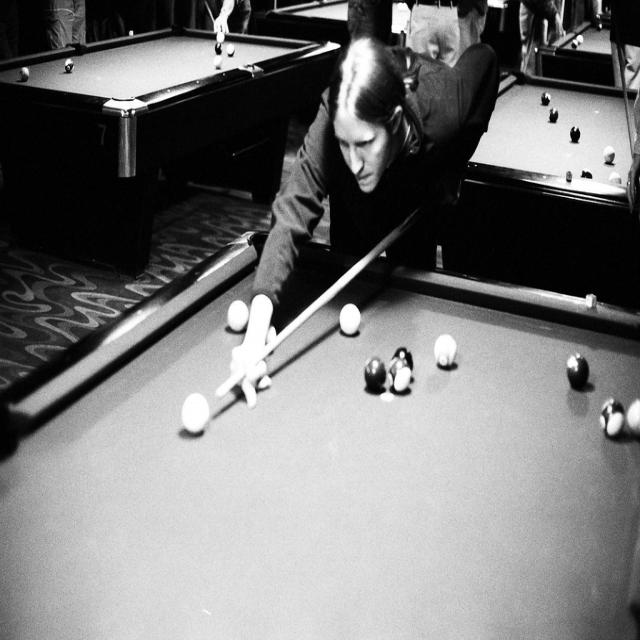Billiard table: (0, 227, 639, 639), (0, 27, 340, 276), (467, 64, 639, 308), (532, 8, 614, 82)
